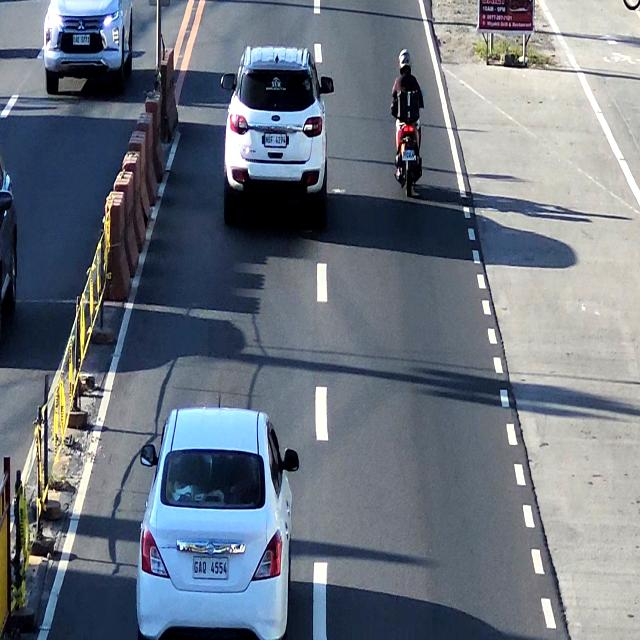Car: (138, 407, 291, 635), (224, 42, 329, 225)
License-Plate: (190, 554, 230, 582), (264, 131, 288, 149), (402, 149, 416, 164)
Motorcycle: (392, 50, 426, 190)
